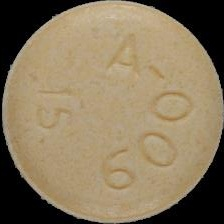21695-004: (0, 0, 224, 224)
